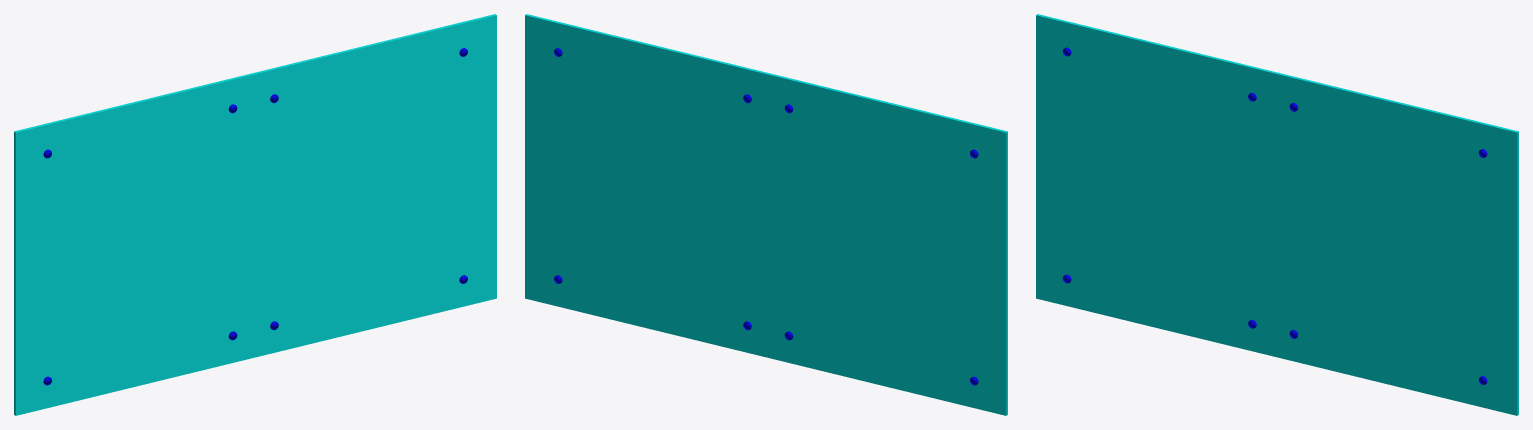
Rendered from cuadro_18_low.fbx.
3 renders of one model, left to right at view 1: azimuth 30°, elevation 25°; view 2: azimuth 150°, elevation 25°; view 3: azimuth 330°, elevation 25°, orthographic.
Visible parts, largest first — view 1: cuadro_izq, cuadro_der; view 2: cuadro_izq, cuadro_der; view 3: cuadro_izq, cuadro_der.
Part boxes in pixels (x1,y1,x2,y2): cuadro_izq: (251,14,496,357); cuadro_der: (14,73,252,415); cuadro_izq: (525,14,770,357); cuadro_der: (769,73,1007,415); cuadro_izq: (1273,72,1518,415); cuadro_der: (1036,14,1274,356).
Bounding box in the file's own units: 160 × 90 × 2.
